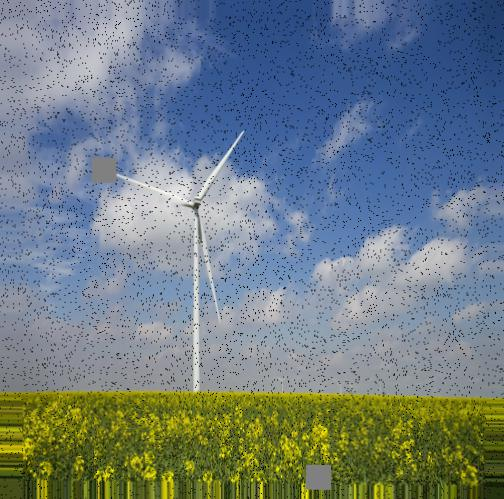wind turbine: (108, 129, 244, 395)
